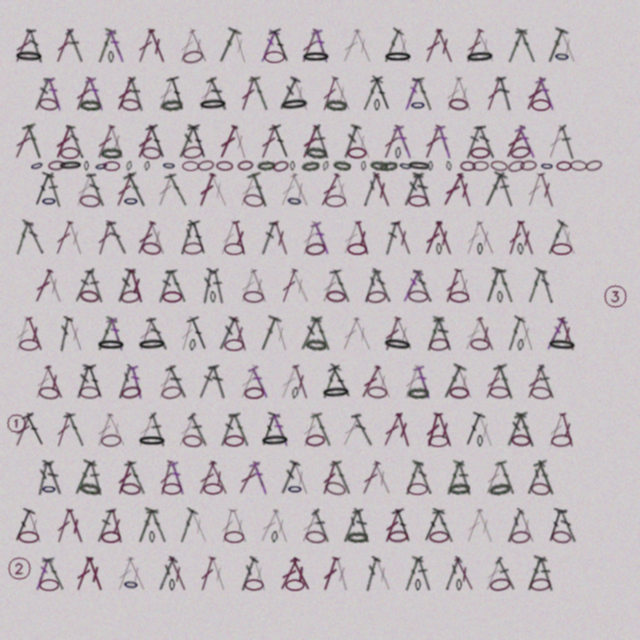chain: (279, 97, 310, 112), (382, 337, 413, 352), (465, 50, 495, 64), (547, 338, 577, 352), (324, 480, 347, 497), (14, 50, 44, 63), (198, 98, 228, 111), (137, 338, 167, 351), (321, 386, 351, 399), (260, 434, 290, 447), (488, 481, 511, 497), (301, 51, 331, 63), (383, 51, 413, 63), (96, 339, 126, 351), (137, 435, 167, 447), (182, 49, 204, 65), (78, 481, 101, 496), (182, 145, 204, 160), (120, 385, 142, 400), (489, 577, 511, 592), (160, 98, 183, 112), (38, 97, 59, 112), (510, 145, 531, 160), (243, 193, 264, 208), (141, 241, 162, 256), (79, 289, 100, 304), (120, 289, 141, 304), (161, 385, 182, 400), (79, 194, 101, 208), (38, 386, 60, 400), (530, 386, 552, 400), (407, 160, 432, 172), (120, 98, 141, 112), (141, 146, 162, 160), (305, 242, 326, 256), (366, 290, 387, 304), (182, 434, 203, 448), (120, 482, 141, 496), (530, 482, 551, 496), (305, 530, 326, 544), (510, 530, 531, 544), (551, 530, 572, 544), (305, 146, 327, 159), (305, 338, 327, 351), (448, 482, 470, 495), (58, 160, 83, 171), (448, 98, 469, 111), (79, 386, 100, 399), (489, 386, 510, 399), (305, 434, 326, 447), (551, 434, 572, 447), (530, 578, 551, 591), (507, 159, 526, 173), (79, 99, 101, 111), (325, 99, 347, 111), (100, 147, 122, 159), (407, 387, 429, 399), (346, 531, 368, 543), (183, 242, 203, 255), (326, 290, 346, 303), (408, 290, 428, 303), (429, 338, 449, 351), (470, 338, 490, 351), (367, 386, 387, 399), (449, 386, 469, 399), (101, 434, 121, 447), (511, 434, 531, 447), (388, 530, 408, 543), (264, 51, 285, 63), (272, 159, 290, 173), (325, 195, 346, 207), (551, 243, 572, 255), (243, 291, 264, 303), (428, 435, 449, 447), (407, 483, 428, 495), (18, 531, 39, 543), (531, 99, 551, 111), (60, 147, 80, 159), (347, 147, 367, 159), (470, 147, 490, 159), (408, 195, 428, 207), (224, 243, 244, 255), (347, 243, 367, 255), (162, 291, 182, 303), (449, 291, 469, 303), (19, 339, 39, 351), (224, 339, 244, 351), (244, 387, 264, 399), (224, 435, 244, 447), (162, 483, 182, 495), (203, 483, 223, 495), (101, 531, 121, 543), (224, 531, 244, 543), (429, 531, 449, 543), (39, 579, 59, 591), (244, 579, 264, 591), (285, 579, 305, 591), (286, 194, 303, 208), (197, 159, 215, 172), (585, 159, 603, 172), (301, 160, 320, 172), (379, 160, 398, 172), (490, 160, 508, 172), (554, 50, 570, 63), (29, 159, 45, 172), (123, 578, 139, 591), (257, 160, 275, 171), (333, 160, 351, 171), (370, 160, 388, 171), (410, 99, 426, 111), (41, 195, 57, 207), (123, 195, 139, 207), (41, 483, 57, 495), (287, 483, 303, 495), (48, 160, 65, 171), (237, 160, 254, 171), (520, 160, 537, 171), (570, 160, 587, 171), (94, 160, 109, 172), (398, 160, 413, 172), (103, 161, 120, 171), (182, 161, 199, 171), (216, 161, 233, 171), (472, 161, 489, 171), (460, 161, 476, 171), (556, 161, 572, 171), (162, 160, 176, 171), (540, 161, 554, 171), (291, 387, 299, 399), (517, 243, 524, 255), (189, 339, 196, 351), (517, 339, 524, 351), (271, 531, 278, 543), (108, 51, 114, 63), (374, 99, 380, 111), (395, 147, 401, 159), (436, 243, 442, 255), (477, 243, 483, 255), (210, 291, 216, 303), (497, 291, 503, 303), (477, 435, 483, 447), (149, 531, 155, 543), (169, 579, 175, 591), (415, 579, 421, 591), (456, 579, 462, 591), (322, 161, 329, 171), (126, 161, 132, 171), (144, 161, 150, 171), (446, 161, 452, 171), (84, 161, 89, 171), (290, 161, 295, 171), (361, 161, 366, 171), (428, 161, 433, 171)
double: (327, 363, 356, 400), (214, 27, 242, 65), (123, 171, 151, 209), (480, 171, 508, 209), (439, 363, 467, 401), (21, 411, 49, 448), (70, 459, 97, 497), (533, 459, 560, 497), (164, 171, 191, 208), (419, 507, 446, 544), (543, 27, 569, 65), (247, 171, 273, 209), (256, 315, 282, 353), (493, 363, 519, 401), (514, 411, 540, 449), (133, 507, 159, 545), (522, 555, 548, 593), (439, 172, 466, 208), (268, 27, 294, 64), (379, 27, 405, 64), (502, 27, 528, 64), (358, 75, 384, 112), (268, 123, 294, 160), (543, 219, 569, 256), (92, 315, 118, 352), (186, 315, 212, 352), (10, 507, 36, 544), (42, 555, 68, 592), (502, 124, 528, 160), (165, 364, 191, 400), (338, 412, 364, 448), (235, 460, 261, 496), (256, 508, 282, 544), (276, 556, 302, 592), (288, 556, 314, 592), (92, 27, 117, 64), (370, 75, 395, 112), (22, 123, 47, 160), (145, 123, 170, 160), (30, 171, 55, 208), (165, 267, 190, 304), (329, 267, 354, 304), (481, 267, 506, 304), (83, 363, 108, 400), (63, 411, 88, 448), (461, 411, 486, 448), (124, 459, 149, 496), (329, 459, 354, 496), (391, 507, 416, 544), (432, 507, 457, 544), (399, 555, 424, 592), (186, 28, 211, 64), (473, 28, 498, 64), (206, 76, 231, 112), (276, 76, 301, 112), (514, 124, 539, 160), (206, 172, 231, 208), (288, 172, 313, 208), (317, 172, 342, 208), (133, 220, 158, 256), (288, 268, 313, 304), (399, 268, 424, 304), (215, 316, 240, 352), (297, 316, 322, 352), (461, 316, 486, 352), (543, 316, 568, 352), (42, 364, 67, 400), (247, 364, 272, 400), (358, 364, 383, 400), (358, 460, 383, 496), (370, 460, 395, 496), (297, 508, 322, 544), (124, 556, 149, 592), (452, 556, 477, 592), (515, 27, 539, 64), (412, 75, 436, 112), (187, 123, 211, 160), (187, 219, 211, 256), (523, 267, 547, 304), (421, 315, 445, 352), (318, 363, 342, 400), (228, 411, 252, 448), (257, 411, 281, 448), (310, 411, 334, 448), (400, 459, 424, 496), (441, 459, 465, 496), (494, 459, 518, 496), (146, 507, 170, 544), (175, 507, 199, 544), (11, 28, 35, 64), (339, 28, 363, 64), (351, 28, 375, 64), (421, 28, 445, 64), (433, 28, 457, 64), (462, 28, 486, 64), (556, 28, 580, 64), (113, 76, 137, 112), (330, 76, 354, 112), (523, 76, 547, 112), (11, 124, 35, 160), (93, 124, 117, 160), (175, 124, 199, 160), (216, 124, 240, 160), (298, 124, 322, 160), (72, 172, 96, 208), (400, 172, 424, 208), (339, 220, 363, 256), (421, 220, 445, 256), (474, 220, 498, 256), (556, 220, 580, 256), (31, 268, 55, 304), (318, 268, 342, 304), (351, 316, 375, 352), (392, 316, 416, 352), (474, 316, 498, 352), (236, 364, 260, 400), (277, 364, 301, 400), (371, 364, 395, 400), (523, 364, 547, 400), (11, 412, 35, 448), (105, 412, 129, 448), (134, 412, 158, 448), (175, 412, 199, 448), (380, 412, 404, 448), (503, 412, 527, 448), (195, 460, 219, 496), (207, 460, 231, 496), (277, 460, 301, 496), (187, 508, 211, 544), (166, 556, 190, 592), (371, 556, 395, 592), (166, 75, 189, 112), (248, 75, 271, 112), (11, 219, 34, 256), (494, 267, 517, 304), (310, 315, 333, 352), (503, 315, 526, 352), (544, 507, 567, 544), (154, 556, 178, 591), (494, 556, 518, 591), (52, 28, 75, 64), (105, 28, 128, 64), (134, 28, 157, 64), (146, 28, 169, 64), (257, 28, 280, 64), (298, 28, 321, 64), (72, 76, 95, 112), (289, 76, 312, 112), (535, 76, 558, 112), (52, 124, 75, 160), (134, 124, 157, 160), (257, 124, 280, 160), (351, 124, 374, 160), (380, 124, 403, 160), (421, 124, 444, 160), (113, 172, 136, 208), (154, 172, 177, 208), (195, 172, 218, 208), (277, 172, 300, 208), (371, 172, 394, 208), (52, 220, 75, 256), (146, 220, 169, 256), (310, 220, 333, 256), (392, 220, 415, 256), (433, 220, 456, 256), (43, 268, 66, 304), (248, 268, 271, 304), (146, 316, 169, 352), (339, 316, 362, 352), (433, 316, 456, 352), (453, 364, 476, 400), (482, 364, 505, 400), (93, 412, 116, 448), (269, 412, 292, 448), (351, 412, 374, 448), (474, 412, 497, 448), (43, 460, 66, 496), (482, 460, 505, 496), (474, 508, 497, 544), (72, 556, 95, 592), (84, 556, 107, 592), (236, 556, 259, 592), (482, 556, 505, 592), (187, 412, 210, 447), (176, 28, 198, 64), (85, 76, 107, 112), (155, 76, 177, 112), (196, 76, 218, 112), (237, 76, 259, 112), (401, 76, 423, 112), (442, 76, 464, 112), (483, 76, 505, 112), (106, 124, 128, 160), (340, 124, 362, 160), (393, 124, 415, 160), (237, 172, 259, 208), (413, 172, 435, 208), (536, 172, 558, 208), (106, 220, 128, 256), (217, 220, 239, 256), (270, 220, 292, 256), (516, 220, 538, 256), (114, 268, 136, 304), (237, 268, 259, 304), (278, 268, 300, 304), (24, 316, 46, 352), (135, 316, 157, 352), (229, 316, 251, 352), (381, 316, 403, 352), (32, 364, 54, 400), (155, 364, 177, 400), (208, 364, 230, 400), (290, 364, 312, 400), (401, 364, 423, 400), (434, 412, 456, 448), (545, 412, 567, 448), (114, 460, 136, 496), (249, 460, 271, 496), (290, 460, 312, 496), (65, 508, 87, 544), (229, 508, 251, 544), (270, 508, 292, 544), (352, 508, 374, 544), (381, 508, 403, 544), (463, 508, 485, 544), (516, 508, 538, 544), (114, 556, 136, 592), (319, 556, 341, 592), (24, 220, 46, 255), (524, 460, 546, 495), (340, 508, 362, 543), (311, 28, 332, 64), (44, 76, 65, 112), (319, 76, 340, 112), (454, 76, 475, 112), (495, 76, 516, 112), (434, 124, 455, 160), (545, 124, 566, 160), (331, 172, 352, 208), (524, 172, 545, 208), (65, 220, 86, 256), (94, 220, 115, 256), (299, 220, 320, 256), (463, 220, 484, 256), (126, 268, 147, 304), (442, 268, 463, 304), (454, 268, 475, 304), (12, 316, 33, 352), (65, 316, 86, 352), (106, 316, 127, 352), (516, 316, 537, 352), (557, 316, 578, 352), (73, 364, 94, 400), (413, 364, 434, 400), (53, 412, 74, 448), (299, 412, 320, 448), (393, 412, 414, 448), (167, 460, 188, 496), (319, 460, 340, 496), (24, 508, 45, 544), (53, 508, 74, 544), (557, 508, 578, 544), (32, 556, 53, 592), (208, 556, 229, 592), (249, 556, 270, 592), (65, 28, 86, 63), (32, 76, 53, 111), (360, 172, 381, 207), (73, 268, 94, 303), (372, 268, 393, 303), (413, 268, 434, 303), (536, 364, 557, 399), (311, 508, 332, 543), (504, 508, 525, 543), (442, 556, 463, 591), (230, 28, 250, 64), (394, 28, 414, 64), (230, 124, 250, 160), (476, 124, 496, 160), (86, 172, 106, 208), (455, 172, 475, 208), (230, 220, 250, 256), (353, 220, 373, 256), (505, 220, 525, 256), (177, 316, 197, 352), (271, 316, 291, 352), (423, 412, 443, 448), (156, 460, 176, 496), (107, 508, 127, 544), (197, 556, 217, 592), (332, 556, 352, 592), (361, 556, 381, 592), (66, 124, 86, 159), (312, 124, 332, 159), (496, 172, 516, 207), (177, 220, 197, 255), (86, 268, 106, 303), (361, 268, 381, 303), (115, 364, 135, 399), (197, 364, 217, 399), (148, 412, 168, 447), (218, 412, 238, 447), (414, 460, 434, 495), (95, 508, 115, 543), (414, 556, 434, 591), (127, 76, 146, 112), (464, 124, 483, 160), (558, 124, 577, 160), (45, 172, 64, 208), (259, 220, 278, 256), (156, 268, 175, 304), (127, 364, 146, 400), (558, 412, 577, 448), (33, 460, 52, 496), (455, 460, 474, 496), (218, 508, 237, 544), (537, 556, 556, 592), (26, 28, 44, 64), (198, 268, 216, 304), (55, 316, 73, 352), (87, 460, 105, 496), (383, 220, 400, 256), (210, 268, 227, 304), (538, 268, 555, 304)
noise: (6, 555, 33, 582), (602, 283, 629, 310), (5, 412, 27, 434)
